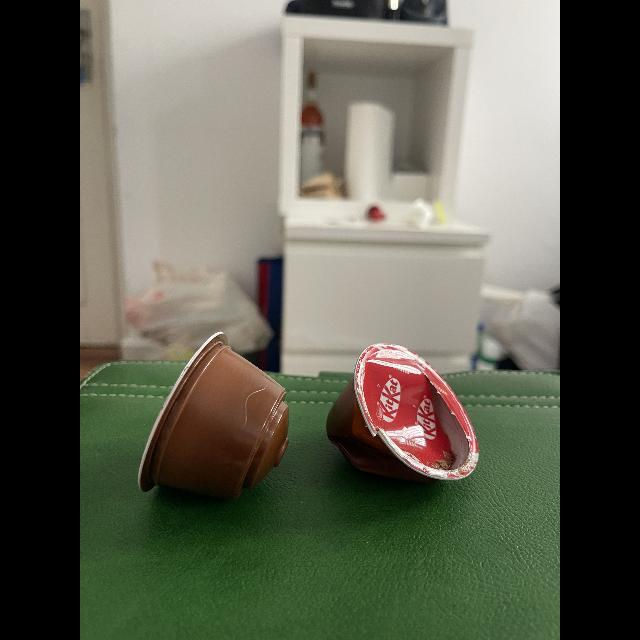damaged_capsule: (322, 338, 486, 492)
intact_capsule: (127, 328, 300, 514)
